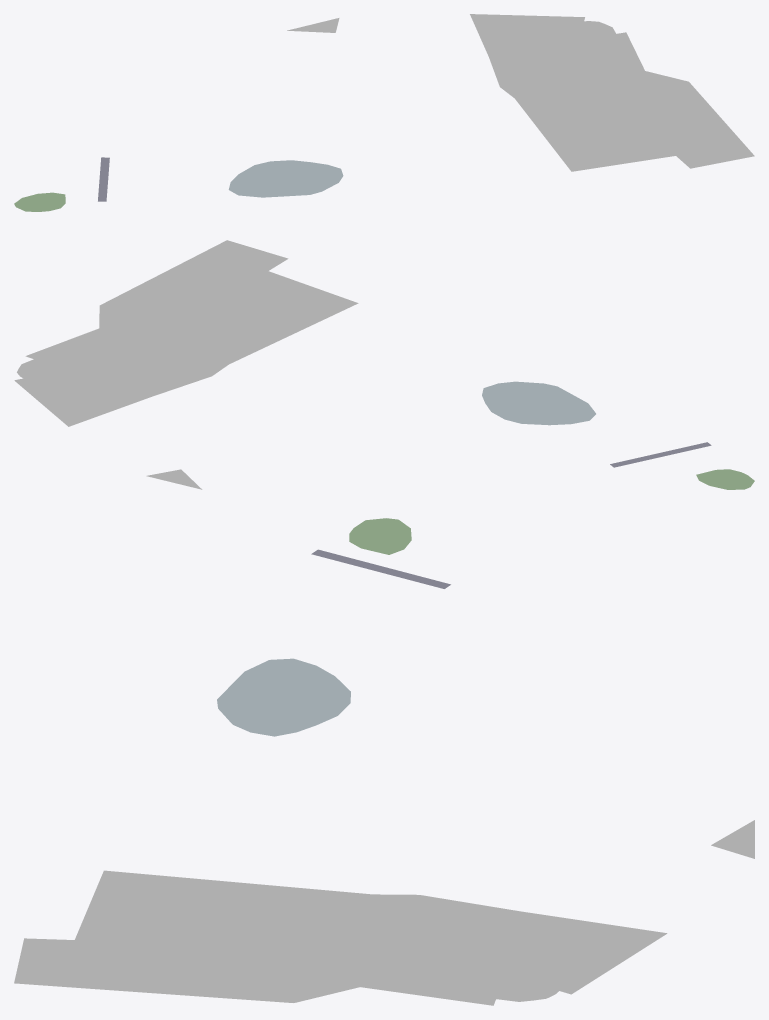
The model's file is 135_118_mid.glb.
The picture shows the model from 3 angles, top to bottom: view 1: azimuth 30°, elevation 25°; view 2: azimuth 150°, elevation 25°; view 3: azimuth 270°, elevation 25°; orthographic projection. The views are drawn at different scales.
Bounding box in the file's own units: 428 × 10.62 × 282.
